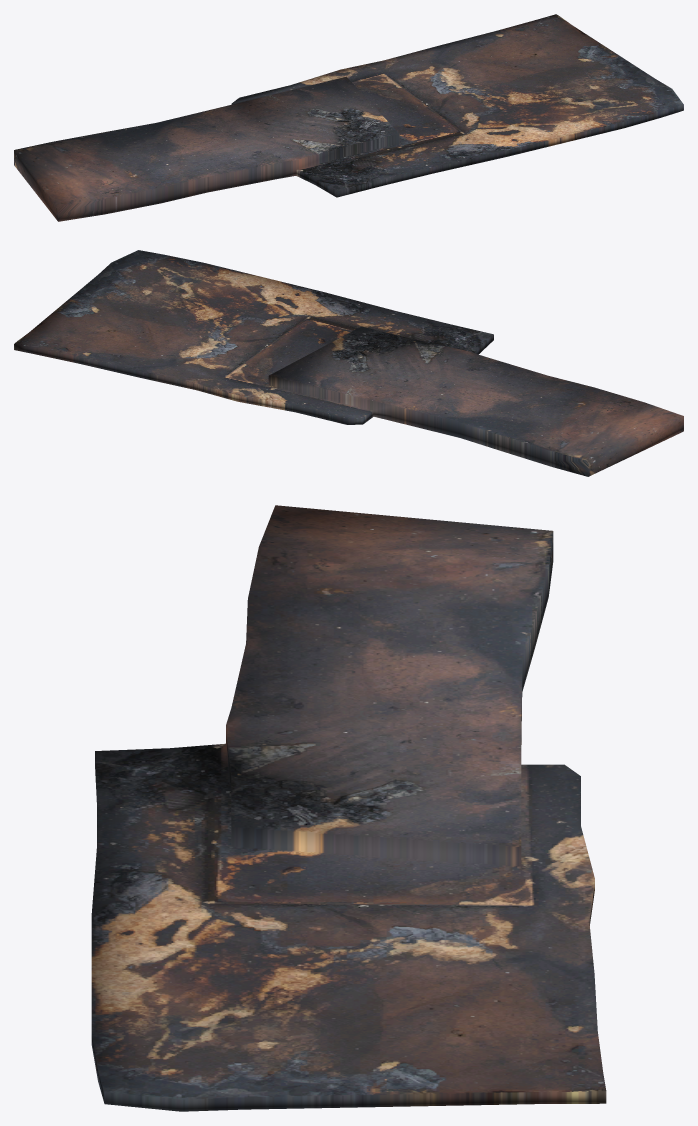
The model's file is rubbish4.obj.
3 renders of one model, top to bottom at view 1: azimuth 30°, elevation 25°; view 2: azimuth 150°, elevation 25°; view 3: azimuth 270°, elevation 25°, orthographic. The views are drawn at different scales.
Visible parts, largest first — view 1: def_surf_mat; view 2: def_surf_mat; view 3: def_surf_mat.
Boxes of the visible parts, <box> form: def_surf_mat: <box>14,14,683,221</box>; def_surf_mat: <box>14,250,683,476</box>; def_surf_mat: <box>91,505,606,1111</box>.
Bounding box in the file's own units: 66.24 × 1.69 × 25.01.
1 material, 1 textured.
